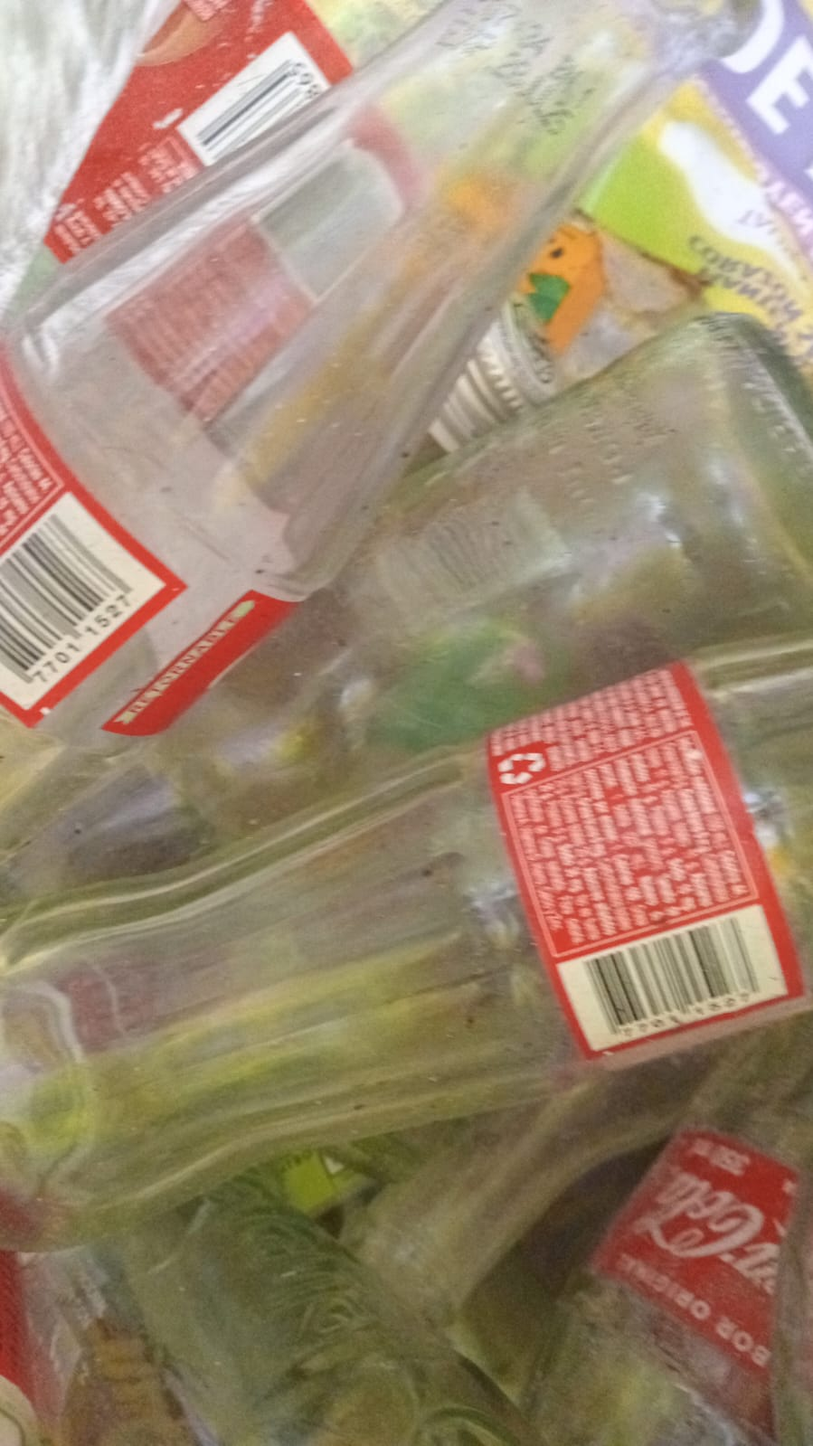Vidrio: (0, 0, 760, 847), (6, 631, 813, 1256)
